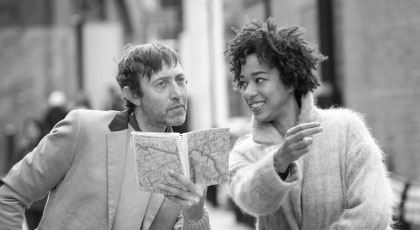pointing_gesture: (272, 122, 326, 165)
